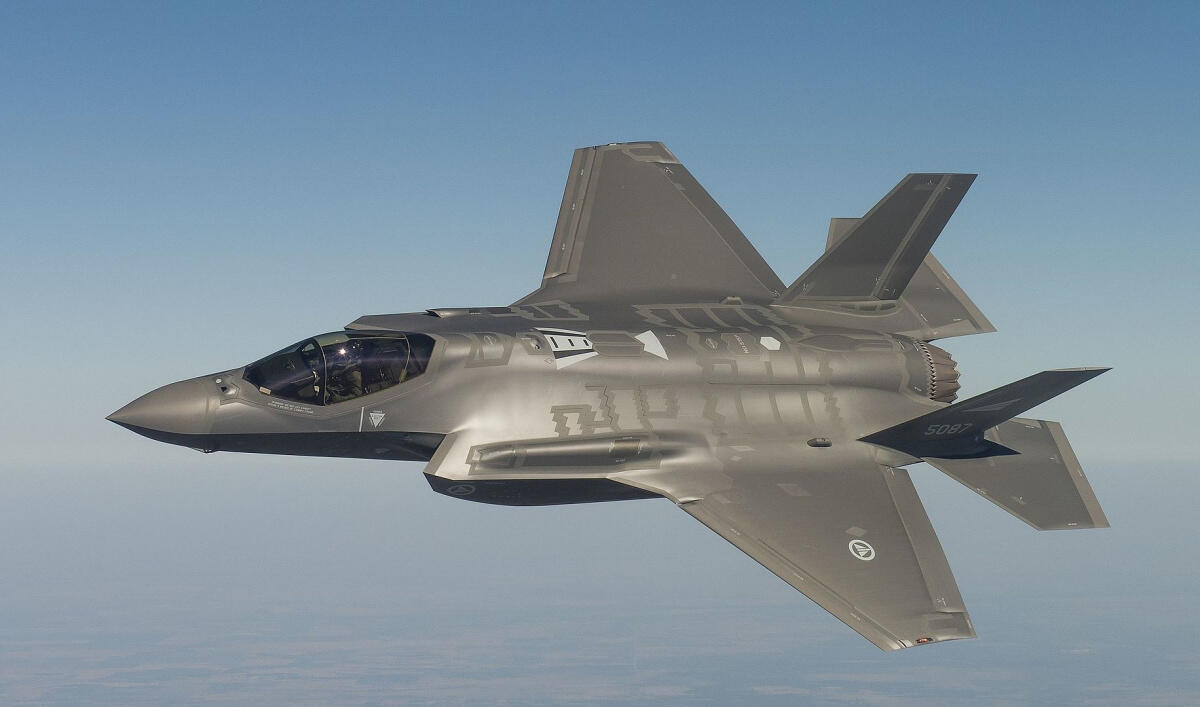F-35 Lightning: (71, 51, 1161, 659)
